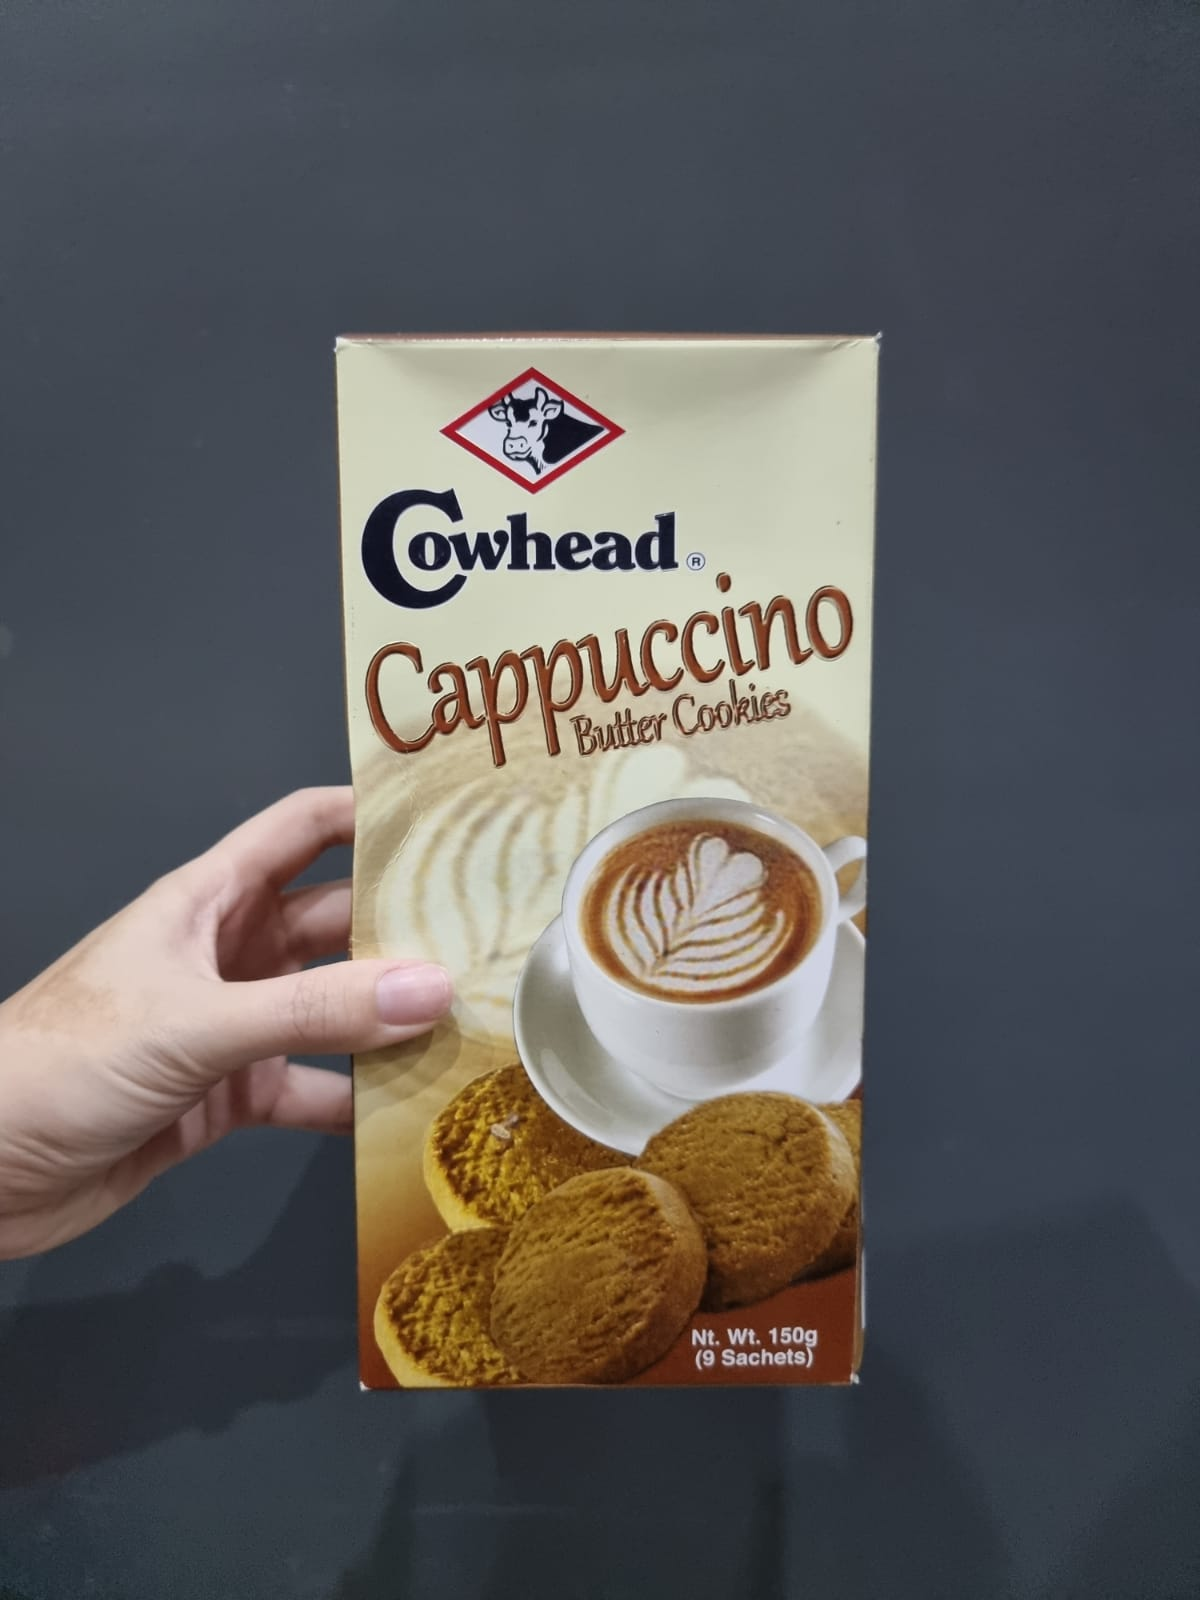Biscuits: (355, 362, 860, 1382)
